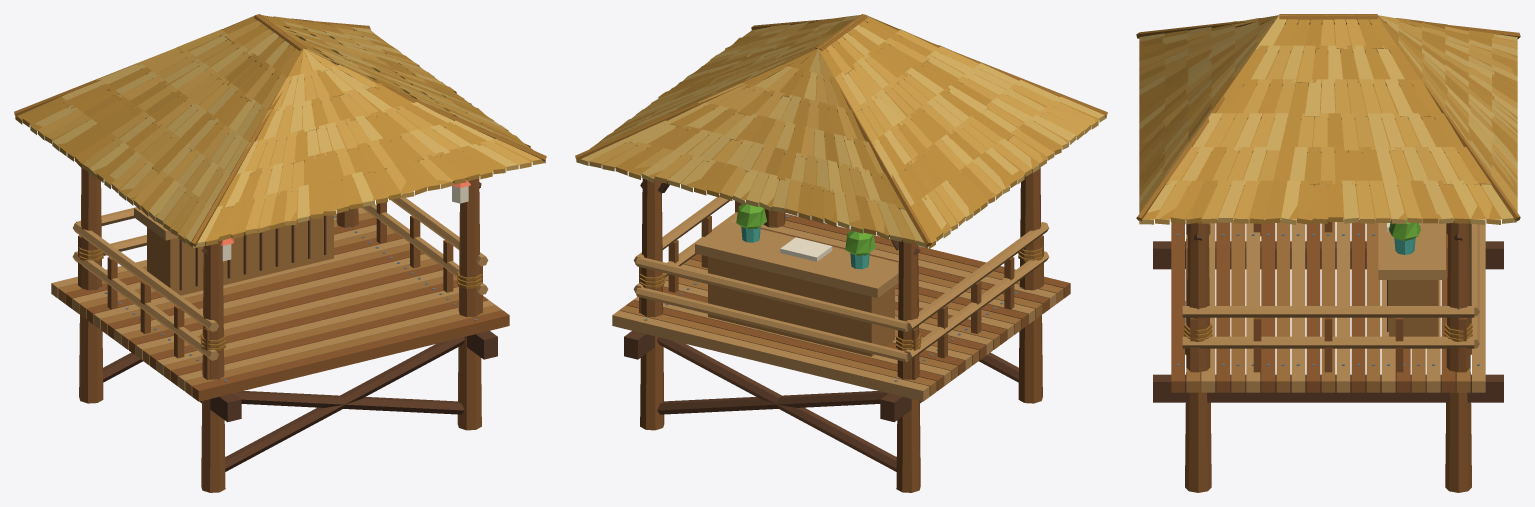
File: thatch_hut.glb
3 views of the same model, side by side, from view 1: azimuth 30°, elevation 25°; view 2: azimuth 150°, elevation 25°; view 3: azimuth 270°, elevation 25° (orthographic). The views are drawn at different scales.
Visible parts, largest first — view 1: thatch_hut_PC_LOD0; view 2: thatch_hut_PC_LOD0; view 3: thatch_hut_PC_LOD0.
Part boxes in pixels (x1,y1,x2,y2): thatch_hut_PC_LOD0: [14, 14, 546, 492]; thatch_hut_PC_LOD0: [575, 14, 1107, 492]; thatch_hut_PC_LOD0: [1136, 14, 1520, 492].
Bounding box in the file's own units: 5.56 × 5.67 × 4.88.
